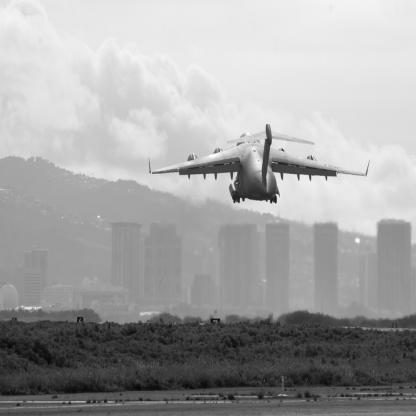C17: (149, 124, 371, 205)
